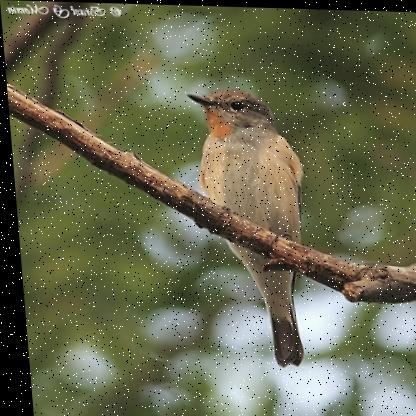Burung: (178, 84, 332, 365)
